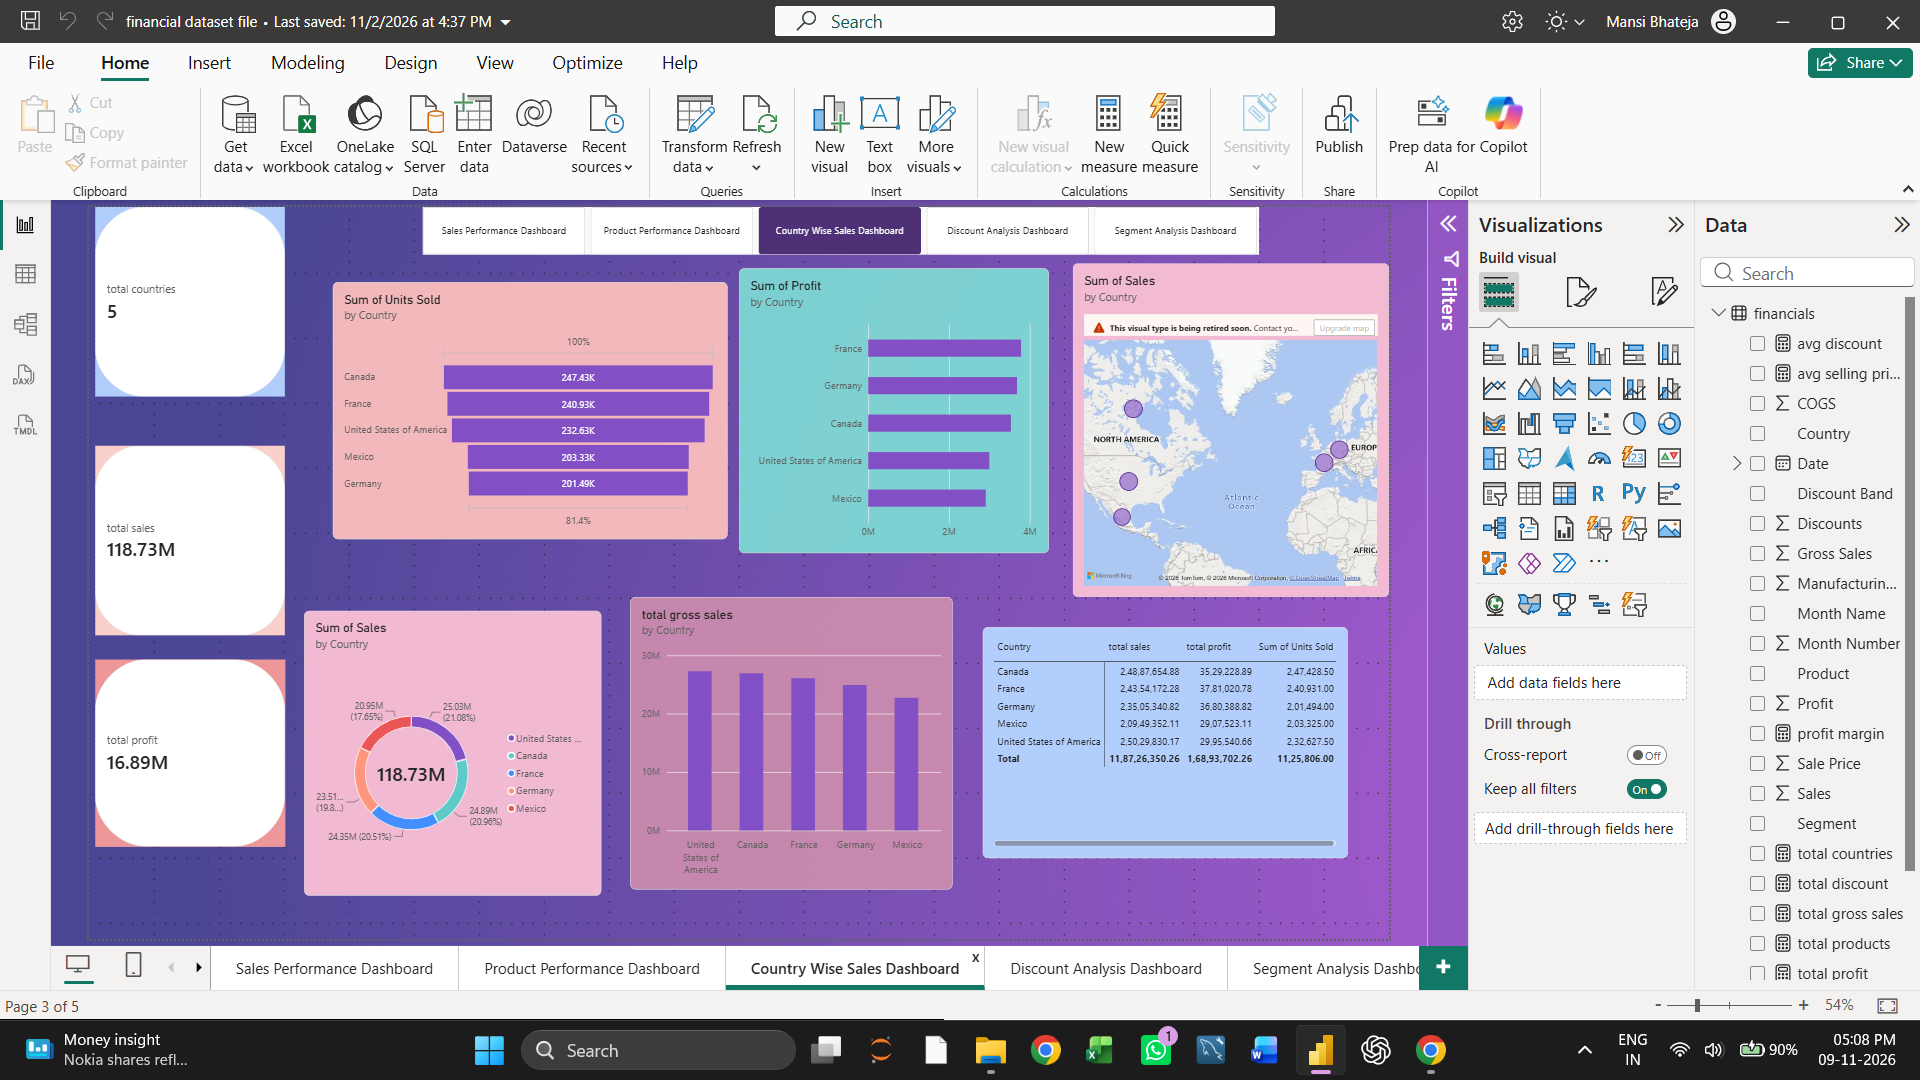

This screenshot's page, from the dashboard's own definition file:
{"tool":"powerbi","page":{"name":"Country Wise Sales Dashboard","canvas":[1920,1080],"ordinal":2},"visuals":[{"type":"cardVisual","fields":{"Data":["financials.total countries"]},"box":[10,0,280,280],"z":0},{"type":"cardVisual","fields":{"Data":["financials.total sales"]},"box":[9.2,352.6,280,280],"z":1},{"type":"funnel","fields":{"Category":["financials.Country"],"Y":["Sum(financials.Units Sold)"]},"box":[360,110.8,583.4,380.3],"z":2},{"type":"cardVisual","fields":{"Data":["financials.total profit"]},"box":[9.2,668.3,280.6,276.9],"z":3},{"type":"map","fields":{"Category":["financials.Country"],"Size":["Sum(financials.Sales)"]},"box":[1452.9,83.1,467.1,492.9],"z":4},{"type":"barChart","fields":{"Category":["financials.Country"],"Y":["Sum(financials.Profit)"]},"box":[960,90.5,457.8,420.9],"z":5},{"type":"columnChart","fields":{"Category":["financials.Country"],"Y":["financials.total gross sales"]},"box":[799.4,576,476.3,432],"z":6},{"type":"donutChart","fields":{"Category":["financials.Country"],"Y":["Sum(financials.Sales)"]},"box":[317.5,596.3,439.4,420.9],"z":7},{"type":"pivotTable","fields":{"Rows":["financials.Country"],"Values":["financials.total sales","financials.total profit","Sum(financials.Units Sold)"]},"box":[1320,620.3,539.1,341.5],"z":8},{"type":"pageNavigator","box":[492.9,0,1235.1,70.2],"z":9}]}

Visuals, with their boxes on the page's 1920x1080 design canvas (x1, y1, x2, y2). These are canvas units, not pixel positions in the 1920x1080 screenshot, which may show the page scaled, cropped or inside an application window:
cardVisual - financials.total countries: box(10, 0, 290, 280)
cardVisual - financials.total sales: box(9, 353, 289, 633)
funnel - financials.Country x Sum(financials.Units Sold): box(360, 111, 943, 491)
cardVisual - financials.total profit: box(9, 668, 290, 945)
map - financials.Country x Sum(financials.Sales): box(1453, 83, 1920, 576)
barChart - financials.Country x Sum(financials.Profit): box(960, 90, 1418, 511)
columnChart - financials.Country x financials.total gross sales: box(799, 576, 1276, 1008)
donutChart - financials.Country x Sum(financials.Sales): box(318, 596, 757, 1017)
pivotTable - financials.Country x financials.total sales: box(1320, 620, 1859, 962)
pageNavigator: box(493, 0, 1728, 70)
